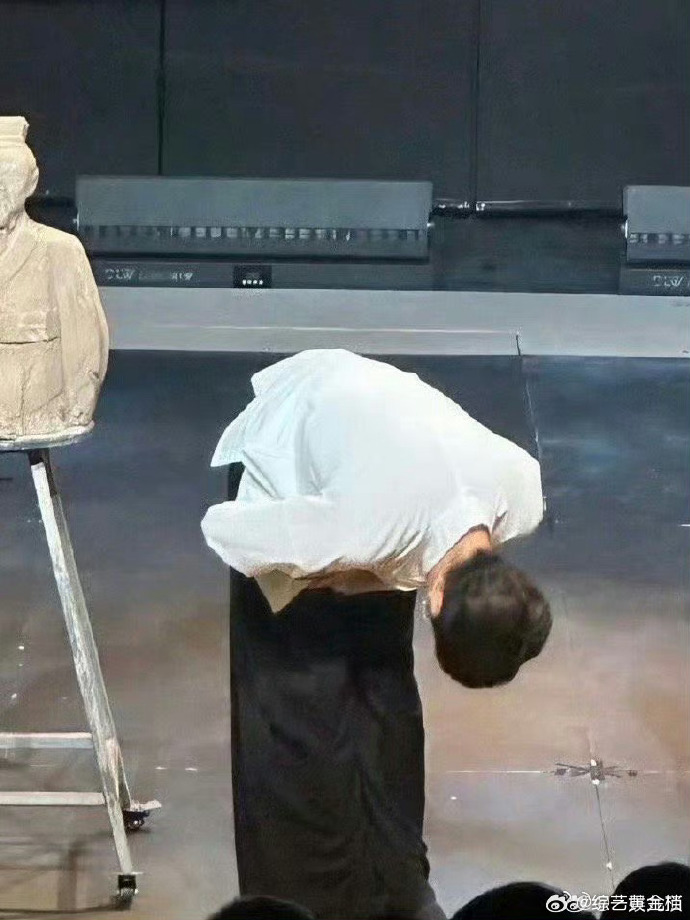bending: (205, 331, 565, 908)
